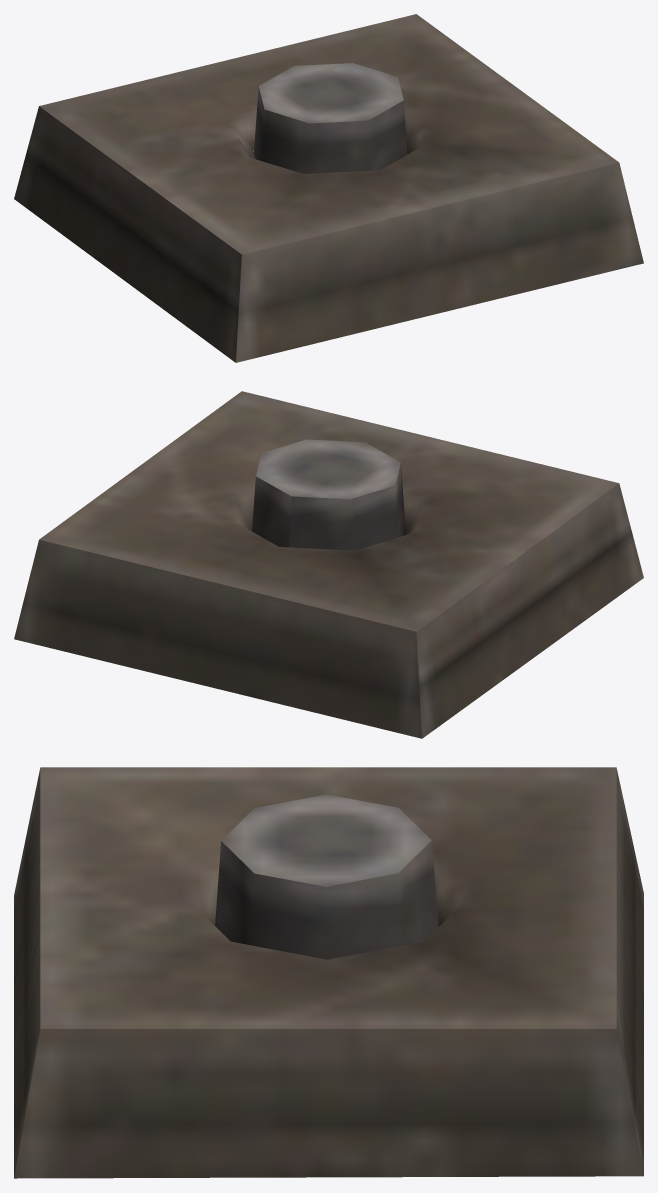
The model's file is computer_parts_button_round.dae.
3 renders of one model, top to bottom at view 1: azimuth 30°, elevation 25°; view 2: azimuth 150°, elevation 25°; view 3: azimuth 270°, elevation 25°, orthographic. The views are drawn at different scales.
Visible parts, largest first — view 1: computer_parts_button_round; view 2: computer_parts_button_round; view 3: computer_parts_button_round.
Boxes of the visible parts, x1=… form: computer_parts_button_round: x1=14, y1=14, x2=643, y2=362; computer_parts_button_round: x1=14, y1=391, x2=643, y2=738; computer_parts_button_round: x1=14, y1=767, x2=643, y2=1178.
Bounding box in the file's own units: 0.1428 × 0.0465 × 0.1344.
